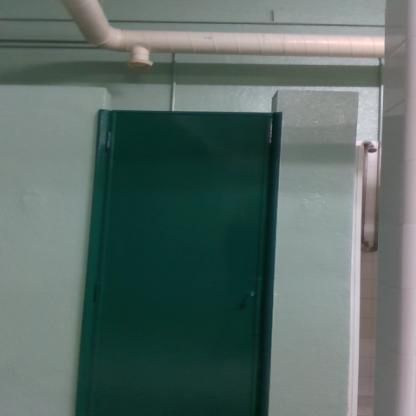closed: (68, 70, 298, 406)
